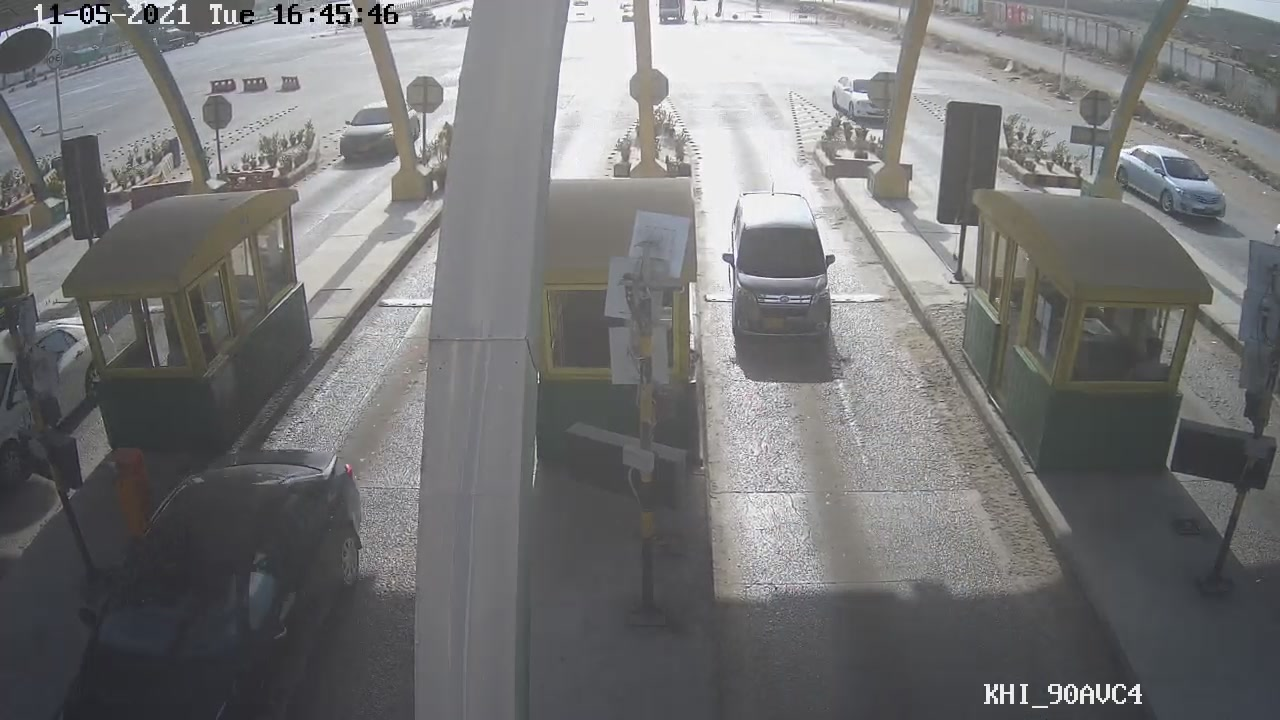F1: (718, 181, 850, 346)
